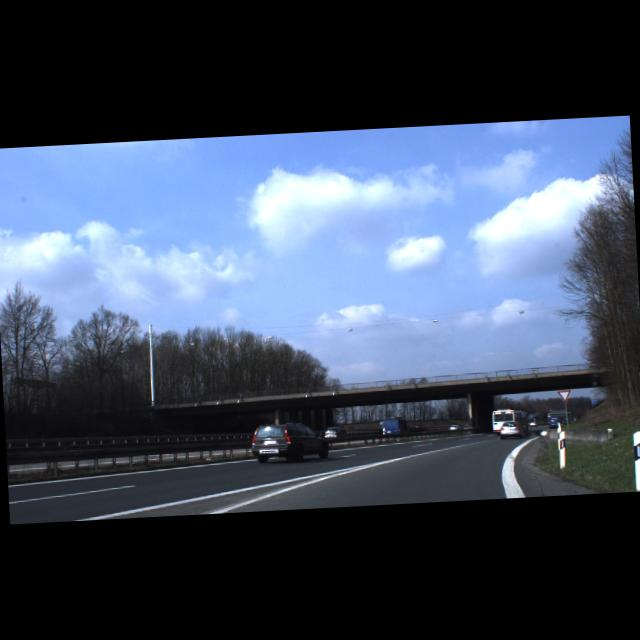other: (557, 389, 572, 404)
